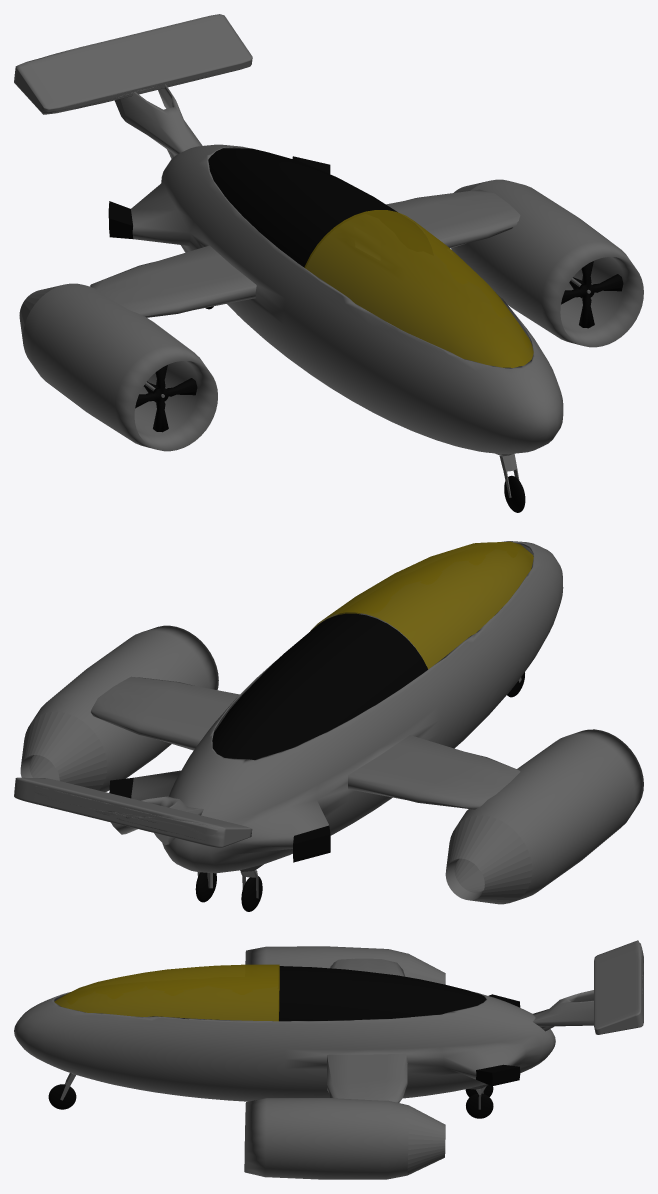
Rendered from bullet.fbx.
The picture shows the model from 3 angles, top to bottom: view 1: azimuth 30°, elevation 25°; view 2: azimuth 150°, elevation 25°; view 3: azimuth 270°, elevation 25°; orthographic projection. The views are drawn at different scales.
Parts seen in each view (by area): view 1: polySurface6; view 2: polySurface6; view 3: polySurface6.
Part boxes in pixels (x1,y1,x2,y2): polySurface6: [14, 14, 643, 512]; polySurface6: [14, 541, 643, 911]; polySurface6: [14, 940, 643, 1179].
Size of the model in its own units: 18.73 by 6.59 by 26.79.
